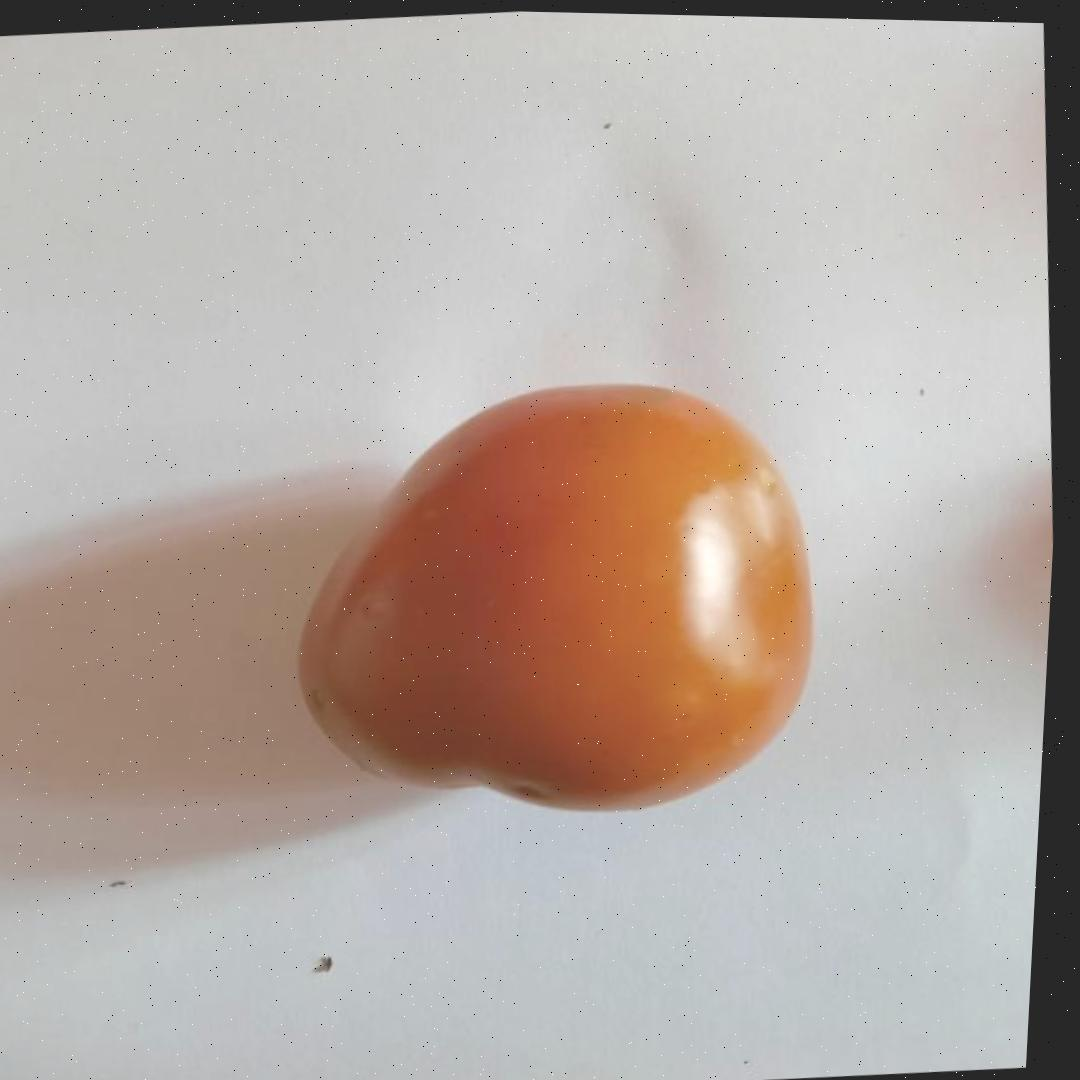matang: (265, 361, 847, 844)
